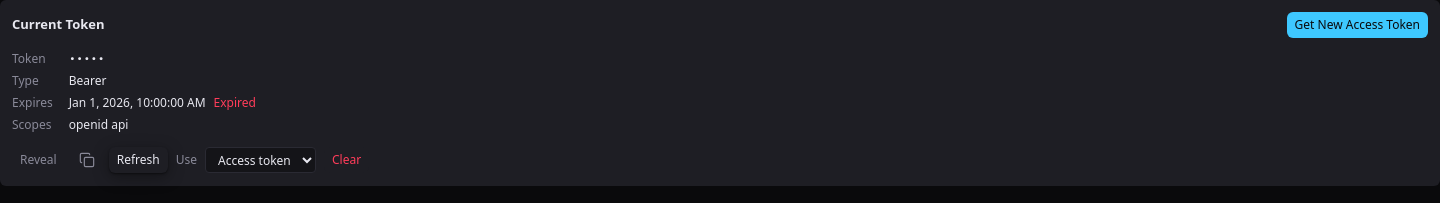
Test: TokenPanel › shows the masked token with its expiry and scopes, and acts on it
Expected: the text "•••••" is shown, 69,51 -> 105,67
Expected: the text "openid api" is shown, 69,116 -> 128,133
Click the button "Reveal". click: (38, 160)
box: 12,147 -> 65,173
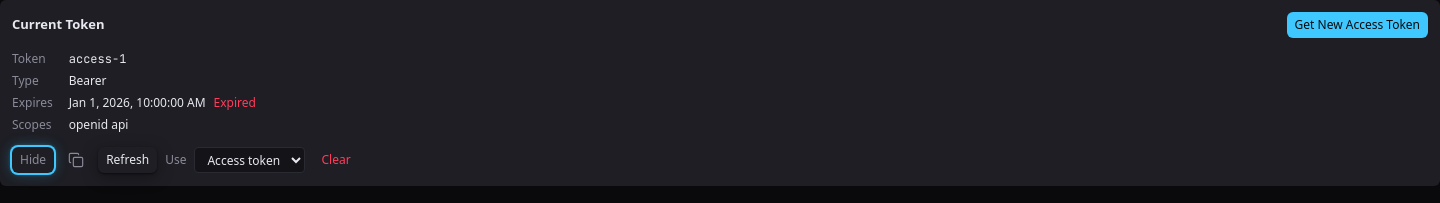
Expected: the text "access-1" is shown, 69,51 -> 126,67
Click the button "Hide". click: (33, 160)
box: 12,147 -> 54,173
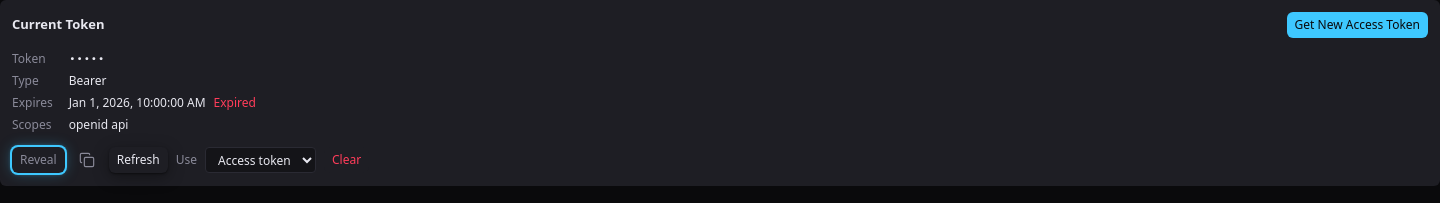
Expected: the text "•••••" is shown, 69,51 -> 105,67
Click the button named "Copy token". click: (87, 160)
box: 73,146 -> 101,174
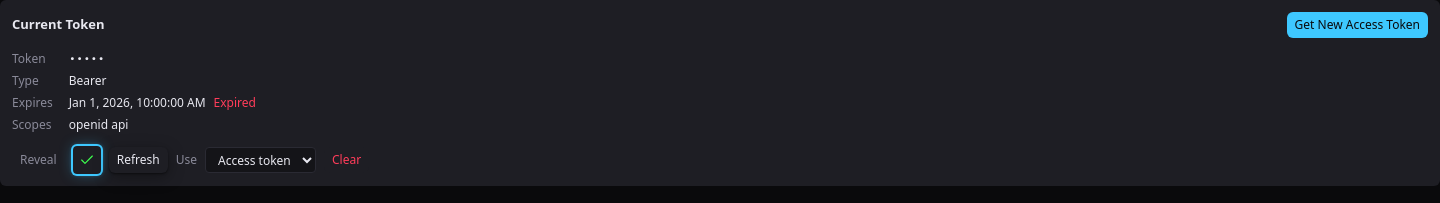
Expected: the button named "Copy token" has attribute title="Copied", 73,146 -> 101,174
Click the button "Refresh". click: (138, 160)
box: 109,147 -> 168,173
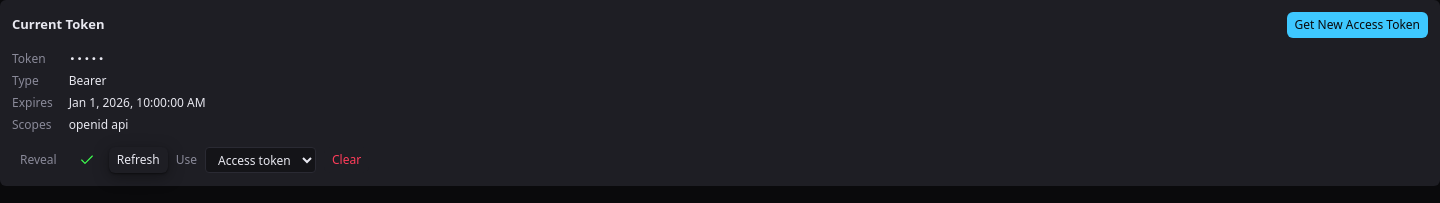
Expected: the text "Expired" is gone
Select "ID token" in the dropdown labelled "Use". click: (260, 160)
box: 205,147 -> 316,173
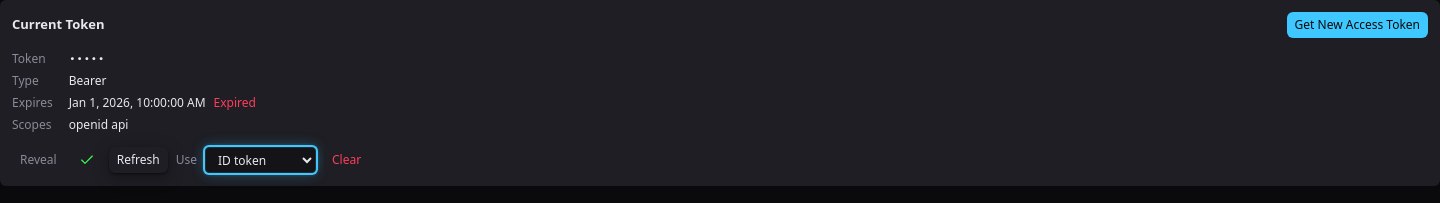
Click the button "Clear". click: (347, 160)
box: 324,147 -> 369,173
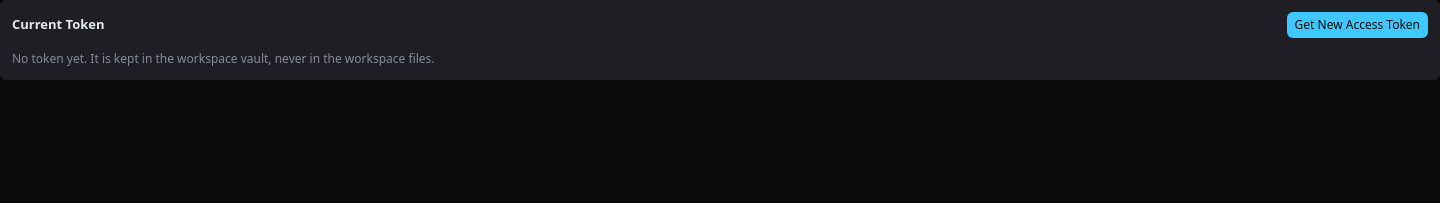
Expected: the text "No token yet" is shown, 12,50 -> 434,67
